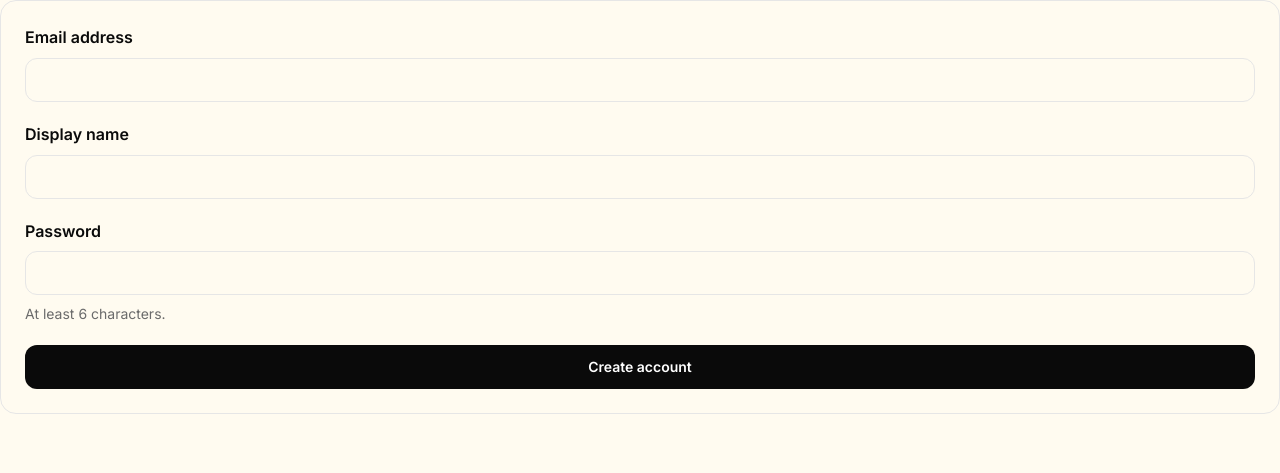
Test: SignupForm › rejects a password under the minimum length
The width and height of the screenshot is (1280, 473).
Type "human@example.test" into the field labelled "Email address" at (640, 80), box [25,58,1255,102]
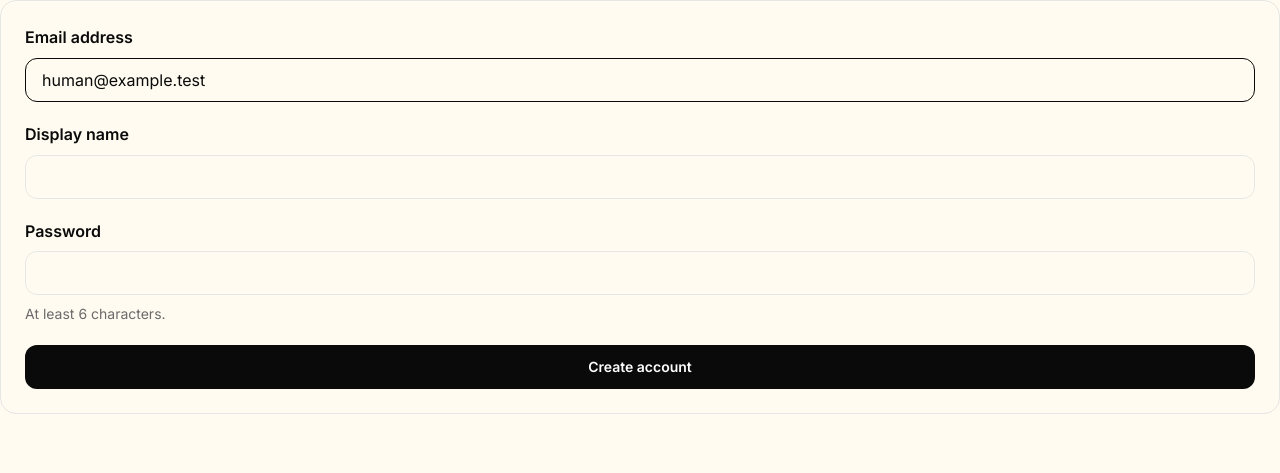
Type "Human" into the field labelled "Display name" at (640, 177), box [25,155,1255,199]
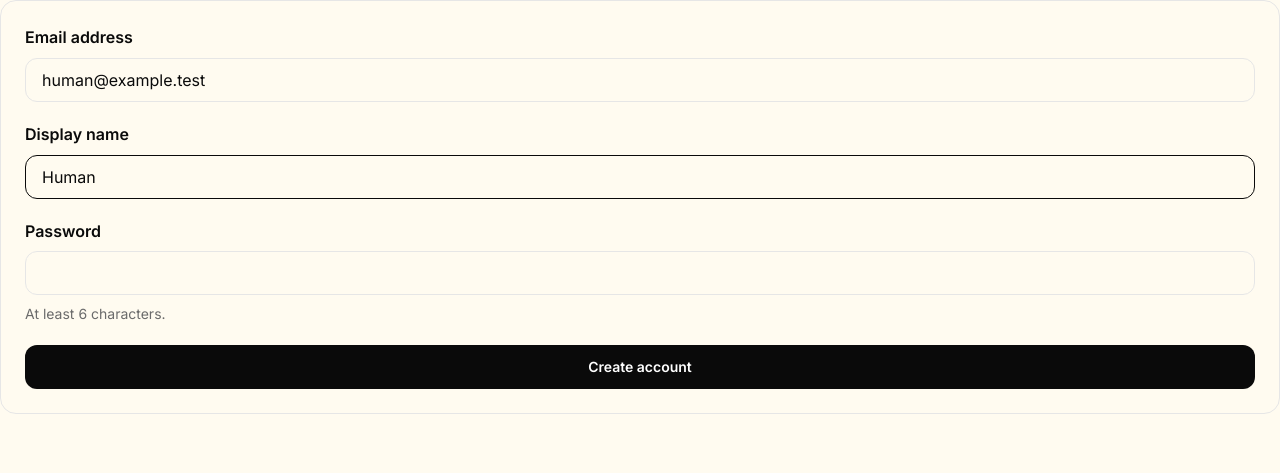
Type "short" into the password field labelled "Password" at (640, 273), box [25,251,1255,295]
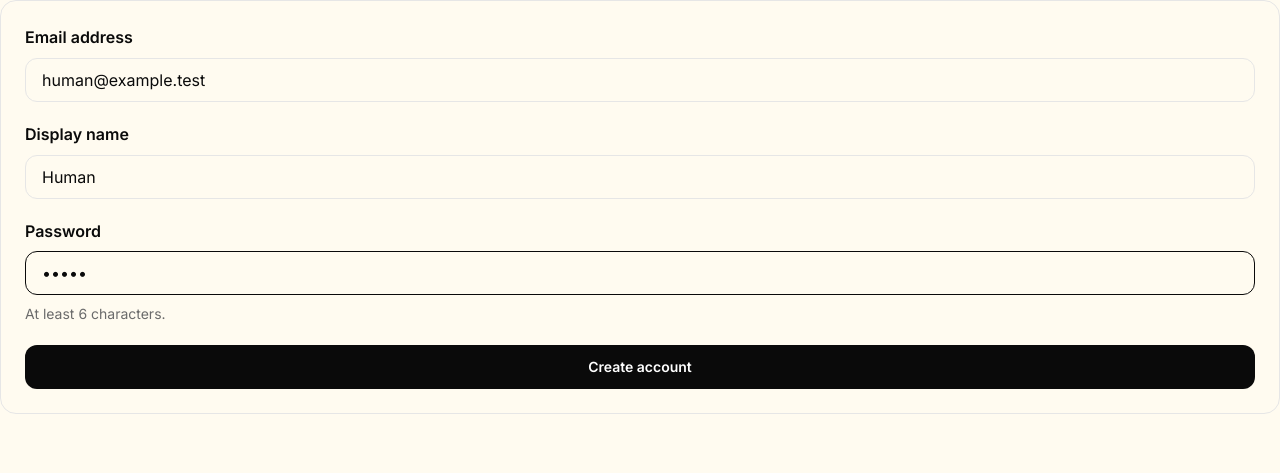
Click the button "Create account" at (640, 367), box [25,345,1255,389]
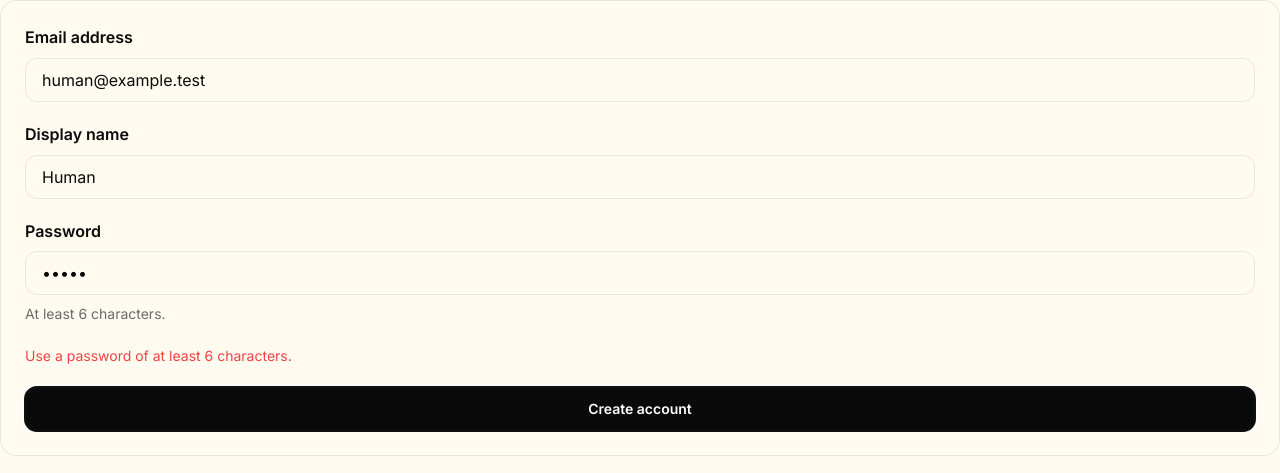
Expected: the message shows "at least 6 characters", [25,347,292,364]
